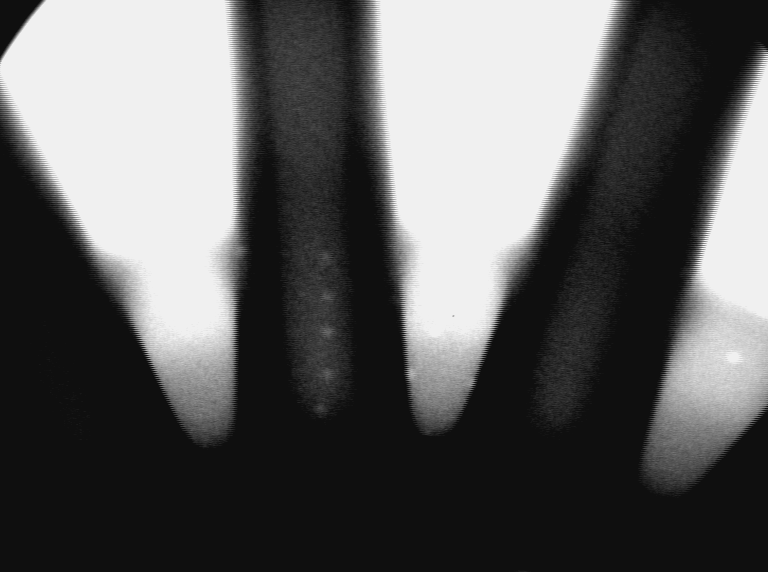defect: (424, 318, 449, 342)
